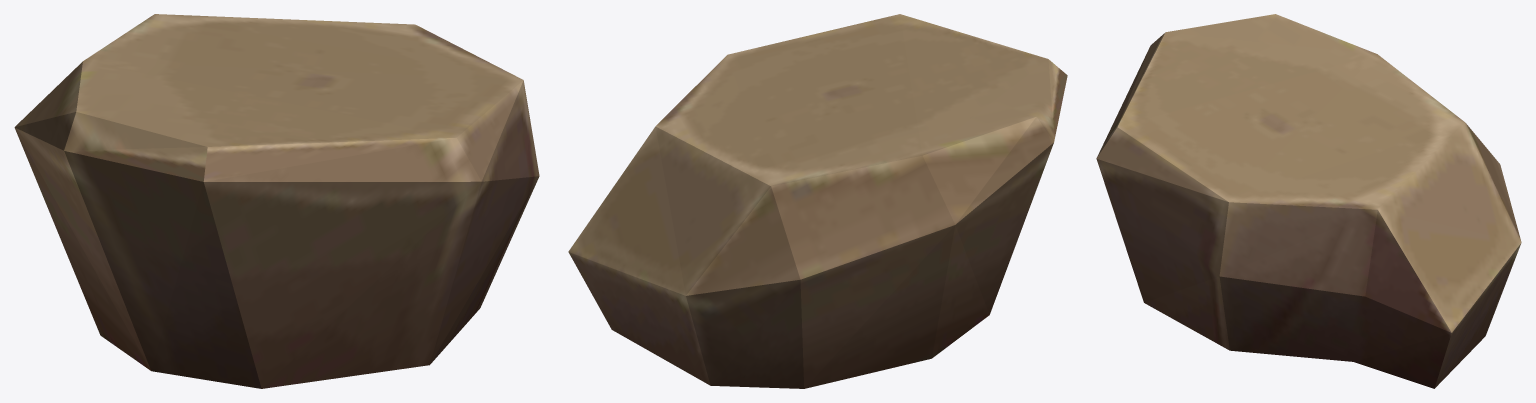
File: caodi_shitou_01.fbx
3 renders of one model, left to right at view 1: azimuth 30°, elevation 25°; view 2: azimuth 150°, elevation 25°; view 3: azimuth 270°, elevation 25°, orthographic. The views are drawn at different scales.
Visible parts, largest first — view 1: caodi_shitou_01; view 2: caodi_shitou_01; view 3: caodi_shitou_01.
Boxes of the visible parts, x1,y1,x2,y2 form: caodi_shitou_01: [14, 14, 539, 388]; caodi_shitou_01: [568, 14, 1067, 388]; caodi_shitou_01: [1096, 14, 1521, 388].
Bounding box in the file's own units: 2.52 × 1.51 × 2.56.
